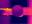Hotspot: (3, 8, 11, 12)
